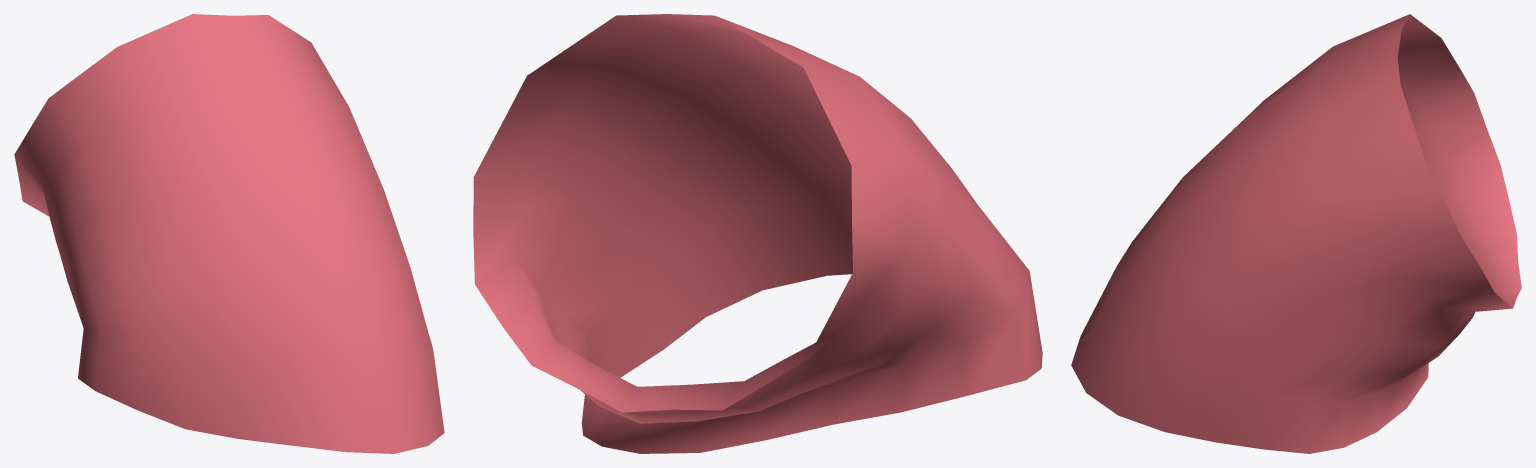
3 renders of one model, left to right at view 1: azimuth 30°, elevation 25°; view 2: azimuth 150°, elevation 25°; view 3: azimuth 270°, elevation 25°, orthographic. The views are drawn at different scales.
Parts seen in each view (by area): view 1: ZA_815c1050b26e85f3; view 2: ZA_815c1050b26e85f3; view 3: ZA_815c1050b26e85f3.
Part boxes in pixels (box(x1,y1,x2,y2)): ZA_815c1050b26e85f3: box(14, 14, 444, 453); ZA_815c1050b26e85f3: box(473, 14, 1042, 453); ZA_815c1050b26e85f3: box(1071, 14, 1521, 453).
Size of the model in its own units: 0.0312 by 0.0329 by 0.0378.
